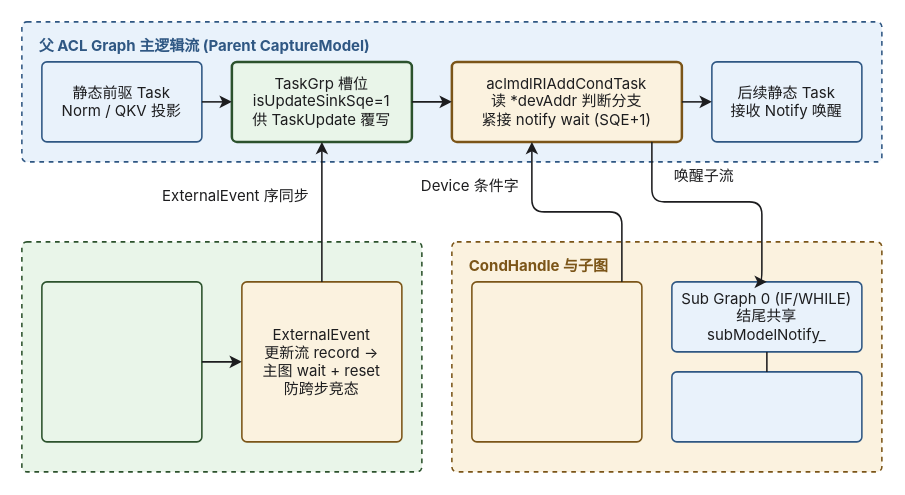
This 905x495 diagram has some shape labels left out. Here are the shapes that lost their labels. From the top down, the box of each, then its label:
(40, 280, 202, 442): update_stream TaskUpdateBegin 原地重写 PA/FIA Tiling 描述符
(20, 240, 422, 472): Replay 前热刷新
(470, 280, 642, 442): CondHandle (8B) devAddr_ 驻留设备 defaultValue_ 前传 由 PreExecute H2D
(670, 370, 862, 442): Sub Graph 1 (Else 分支) 同发 Notify Record 返回
